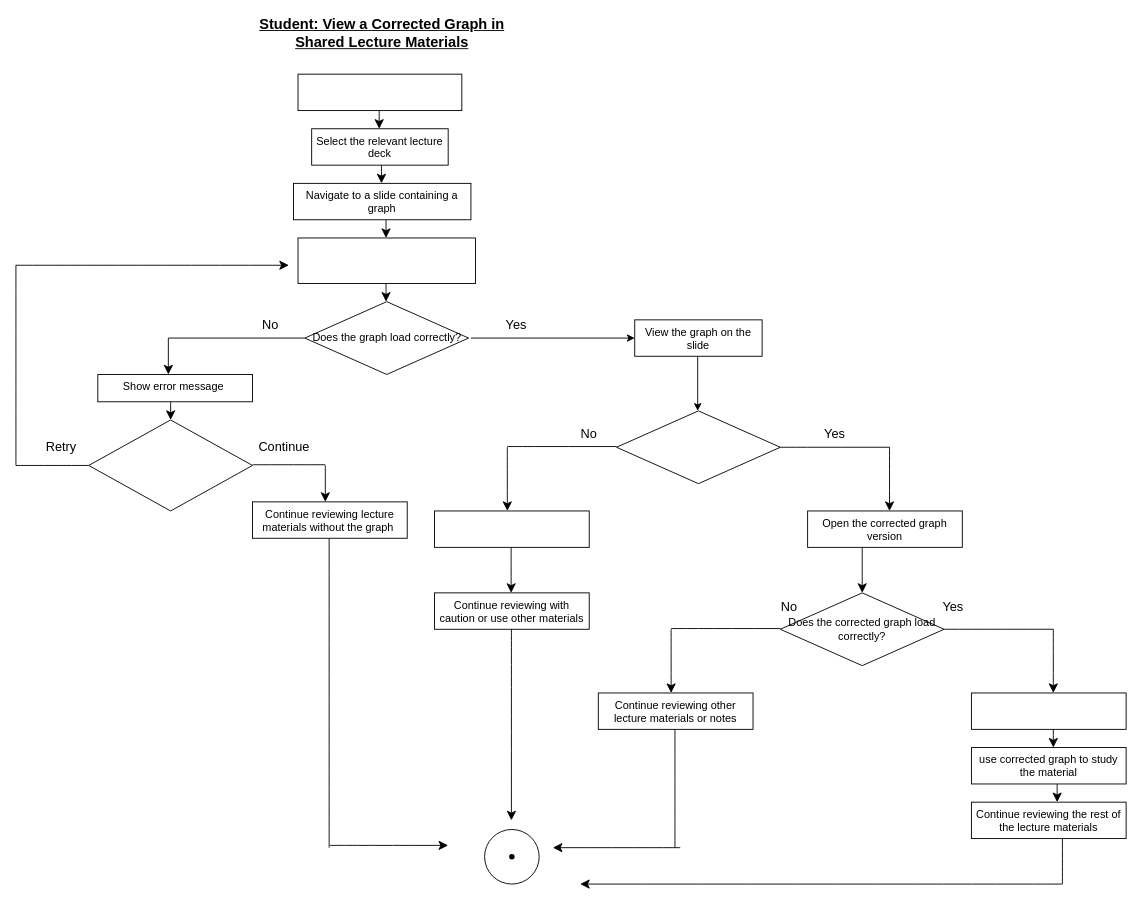
This 1142x904 diagram has some shape labels left out. The shapes that lost their labels are listed below. From the top down, each one's box as (x1, y1, x2, y2) in pixels, then its label:
(297, 73, 462, 111): Open The Slide Machine shared lecture materials
(297, 237, 475, 283): The Slide Machine loads the graph on the slide
(88, 419, 253, 511): Retry or continue without the graph?
(616, 410, 780, 484): Is a corrected version available?
(434, 510, 589, 547): Original or outdated graph is shown
(971, 692, 1126, 729): Review corrected graph with labels, axes, units, and values
